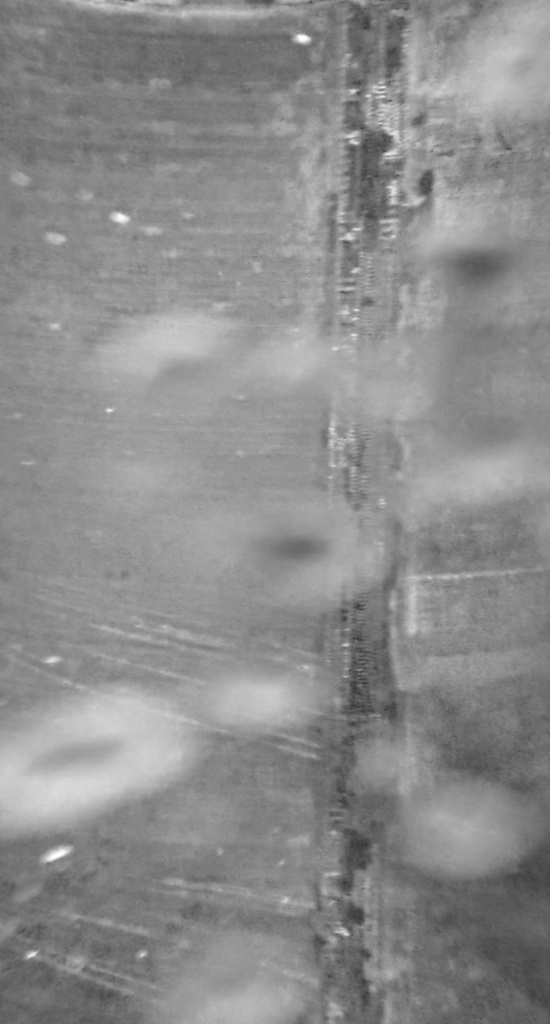splice: (318, 1, 421, 1024)
